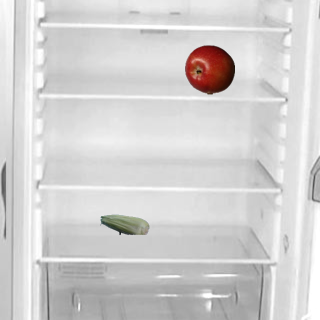Apple Braeburn: (184, 44, 234, 94)
Corn Husk: (99, 199, 149, 249)
